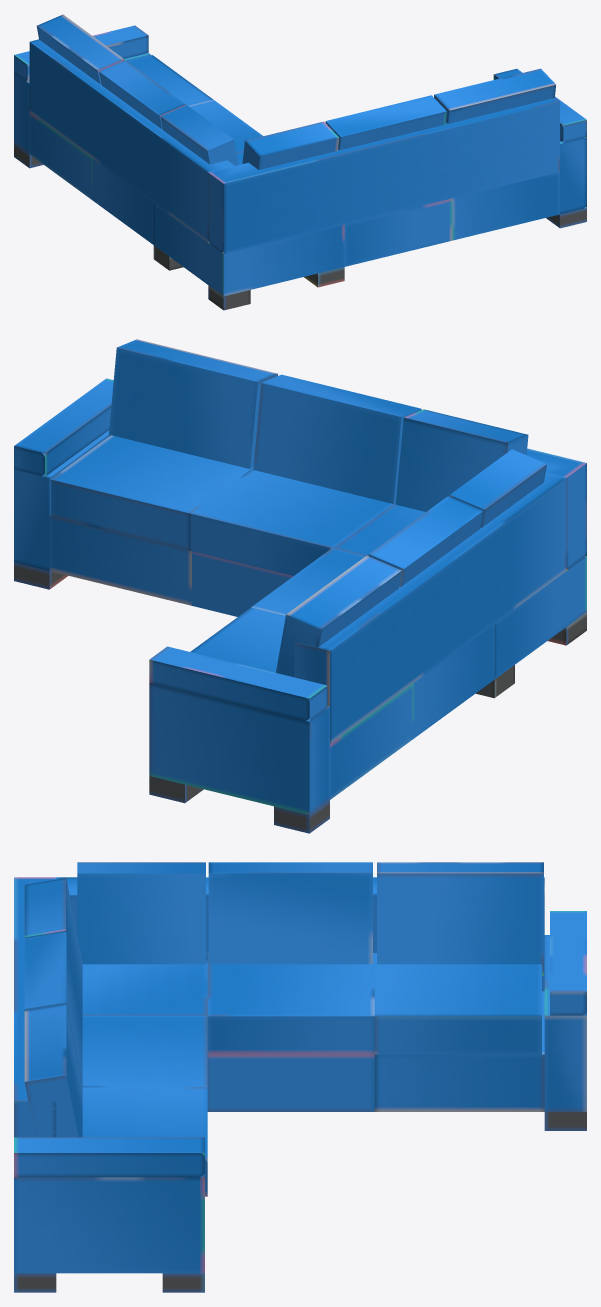
Rendered from gauč_3.fbx.
3 views of the same model, one above another, from view 1: azimuth 30°, elevation 25°; view 2: azimuth 150°, elevation 25°; view 3: azimuth 270°, elevation 25° (orthographic). The views are drawn at different scales.
Visible parts, largest first — view 1: cube_2, cube_18, cube_15, cube, cube_9, cube_13, cube_4, cube_21, cube_25, cube_17, cube_16, cube_23 (+10 smaller); view 2: cube_18, cube_1, cube_13, cube_4, cube_12, cube_3, cube_21, cube_9, cube_5, cube_25, cube_15, cube_14 (+13 smaller); view 3: cube_10, cube_25, cube_23, cube_22, cube_24, cube_19, cube_17, cube_16, cube_3, cube_14, cube_12, cube_20 (+10 smaller).
Boxes of the visible parts, <box> form: cube_2: <box>208,98,559,253</box>; cube_18: <box>29,39,234,242</box>; cube_15: <box>153,203,344,296</box>; cube: <box>344,198,452,266</box>; cube_9: <box>452,172,559,240</box>; cube_13: <box>434,68,555,123</box>; cube_4: <box>325,95,446,150</box>; cube_21: <box>242,121,339,169</box>; cube_25: <box>36,14,124,84</box>; cube_17: <box>29,112,91,199</box>; cube_16: <box>91,158,153,244</box>; cube_23: <box>99,60,185,129</box>; cube_18: <box>294,473,566,743</box>; cube_1: <box>149,683,329,814</box>; cube_13: <box>108,339,277,468</box>; cube_4: <box>253,374,421,503</box>; cube_12: <box>50,435,253,550</box>; cube_3: <box>190,468,393,575</box>; cube_21: <box>396,409,528,511</box>; cube_9: <box>49,515,191,605</box>; cube_5: <box>149,646,327,721</box>; cube_25: <box>276,555,401,677</box>; cube_15: <box>494,556,586,678</box>; cube_14: <box>14,378,113,476</box>; cube_10: <box>14,1173,204,1273</box>; cube_25: <box>377,862,543,975</box>; cube_23: <box>208,862,372,964</box>; cube_22: <box>207,953,374,1054</box>; cube_24: <box>374,953,541,1054</box>; cube_19: <box>77,862,205,964</box>; cube_17: <box>374,991,544,1111</box>; cube_16: <box>207,1054,374,1111</box>; cube_3: <box>82,1015,207,1087</box>; cube_14: <box>14,1137,204,1177</box>; cube_12: <box>82,1087,207,1196</box>; cube_20: <box>82,953,207,1015</box>.
Size of the model in its own units: 169 by 64.77 by 169.
Materials: 1 (1 with a texture image).
